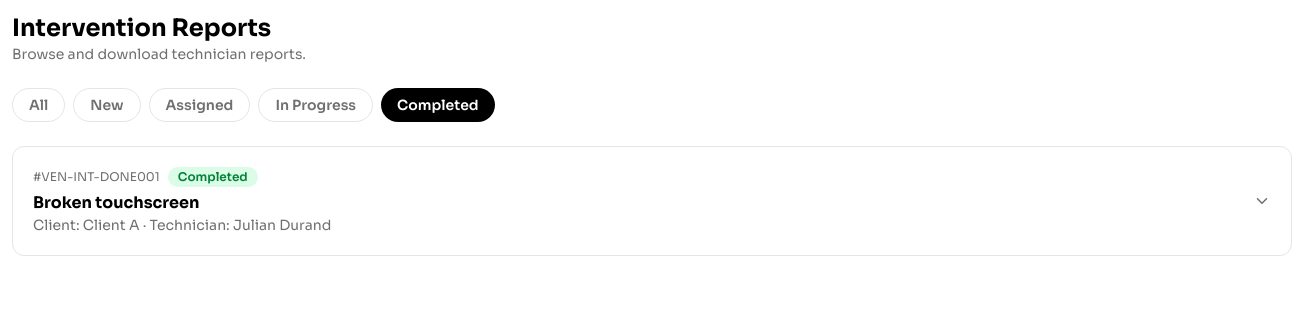
Test: Admin Reports › shows a message when an intervention has no reports
The width and height of the screenshot is (1304, 334).
Click the heading "Broken touchscreen".
click(116, 202)  # box left=33, top=192, right=199, bottom=213
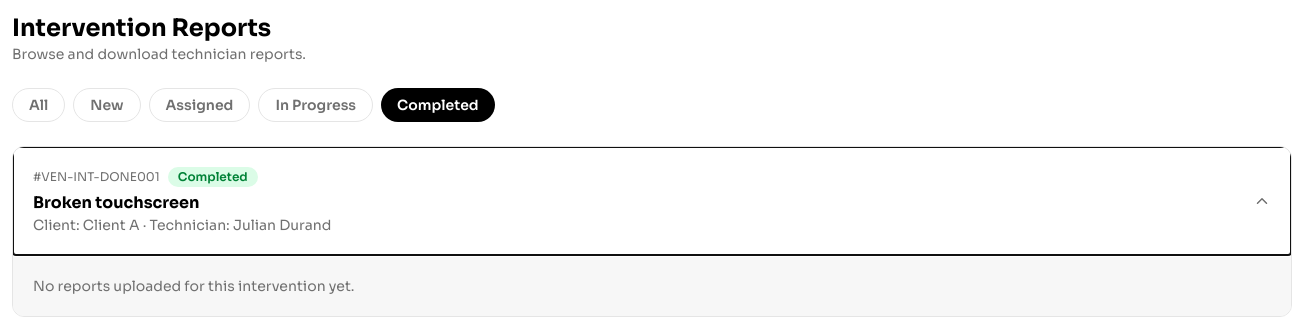
Check: the text "No reports uploaded for this intervention yet." is shown, box left=33, top=277, right=354, bottom=295
